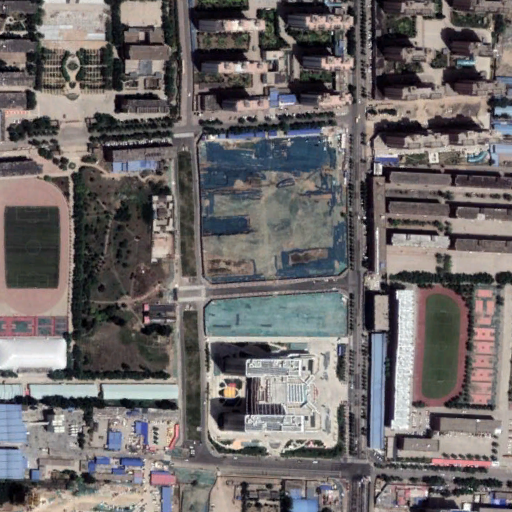cw: (195, 132, 349, 284), (202, 292, 350, 339)
